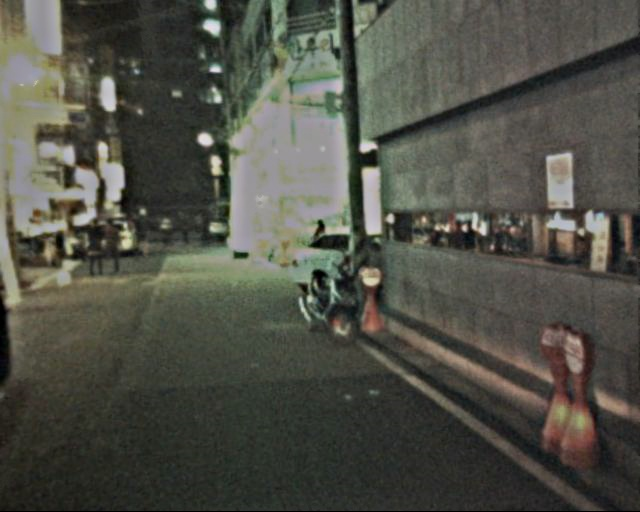person: (127, 210, 213, 249), (308, 219, 334, 284), (101, 221, 128, 282), (87, 218, 113, 280)
